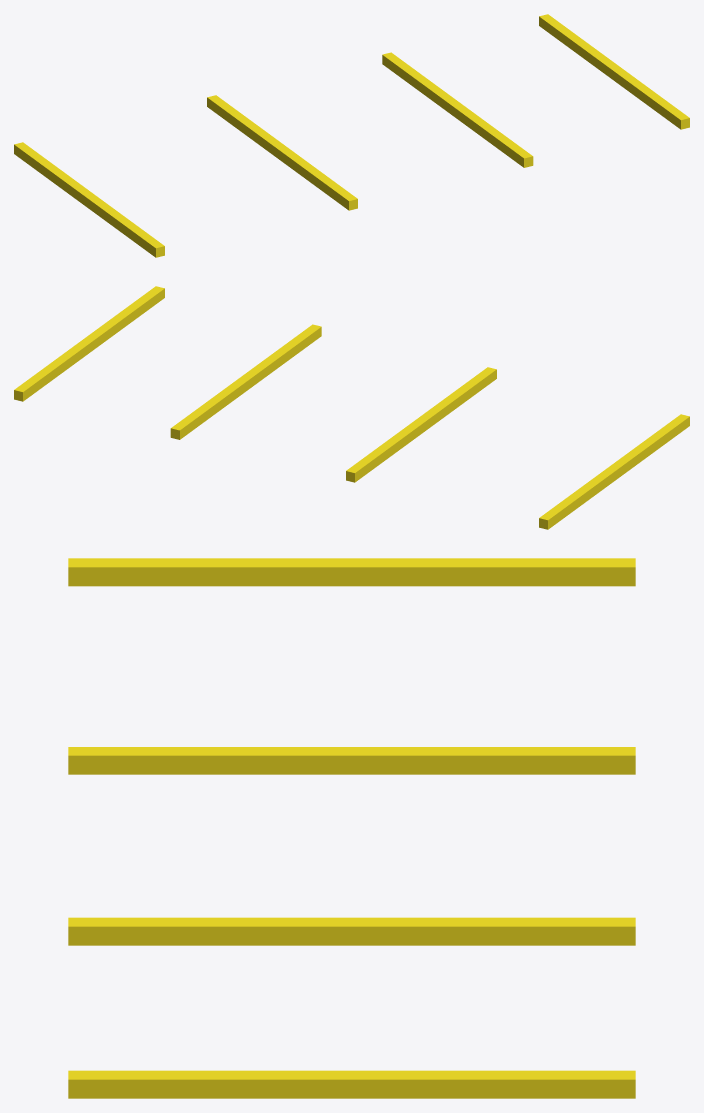
File: posts.dae
The picture shows the model from 3 angles, top to bottom: view 1: azimuth 30°, elevation 25°; view 2: azimuth 150°, elevation 25°; view 3: azimuth 270°, elevation 25°; orthographic projection. The views are drawn at different scales.
Visible parts, largest first — view 1: node_0; view 2: node_0; view 3: node_0.
Part boxes in pixels (x1,y1,x2,y2): node_0: [14, 14, 689, 257]; node_0: [14, 286, 689, 529]; node_0: [68, 558, 635, 1098].
Bounding box in the file's own units: 2998 × 51 × 1380.
